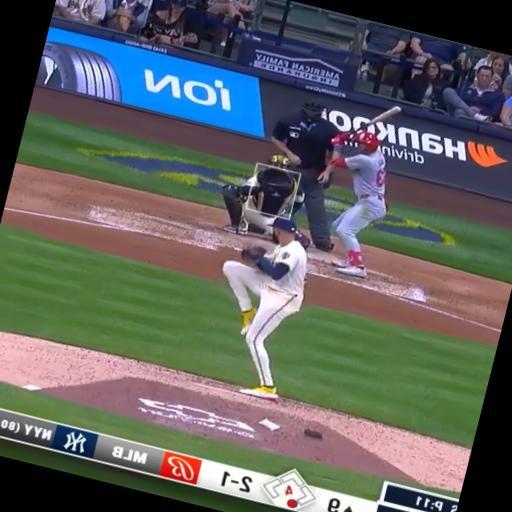bat: (367, 106, 401, 126)
